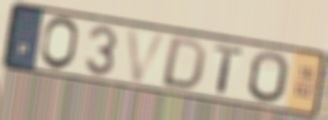3: (83, 24, 120, 77)
D: (158, 35, 209, 92)
O: (246, 50, 291, 105), (38, 16, 81, 73)
T: (212, 43, 245, 97)
V: (125, 26, 171, 86)
